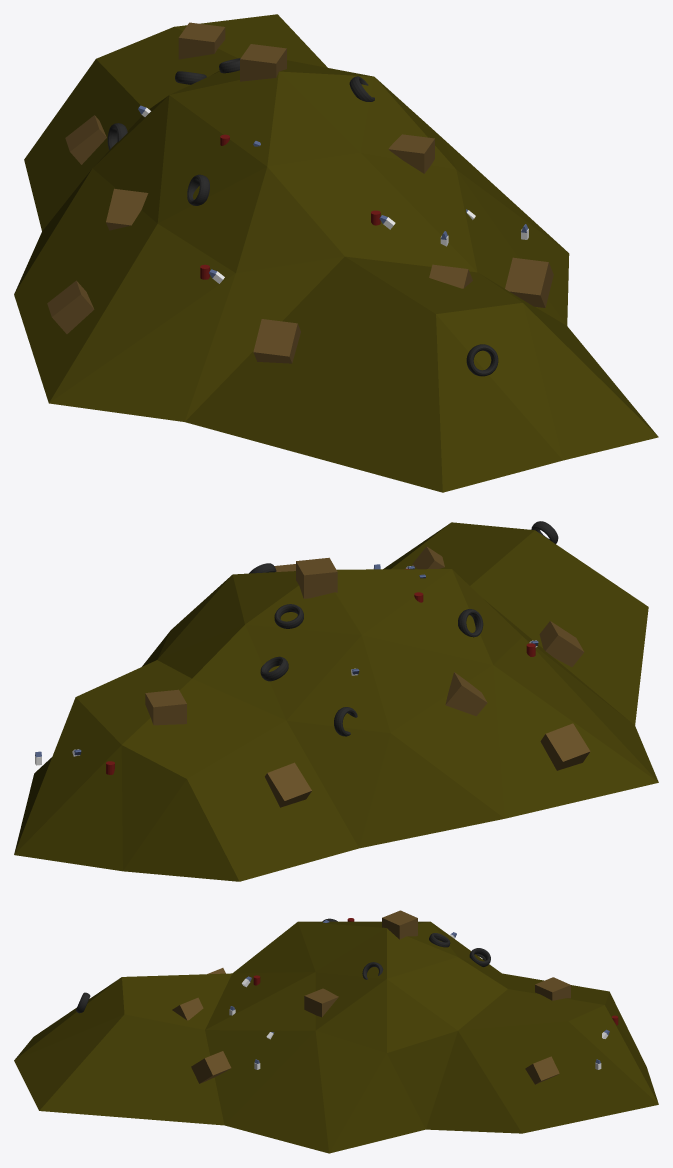
The model's file is Trash6.fbx.
3 views of the same model, one above another, from view 1: azimuth 30°, elevation 25°; view 2: azimuth 150°, elevation 25°; view 3: azimuth 270°, elevation 25° (orthographic). The views are drawn at different scales.
Parts seen in each view (by area): view 1: Icosphere.001; view 2: Icosphere.001; view 3: Icosphere.001.
Boxes of the visible parts, left/top/right/bottom form: Icosphere.001: left=14, top=14, right=658, bottom=492; Icosphere.001: left=14, top=521, right=658, bottom=881; Icosphere.001: left=14, top=910, right=658, bottom=1153.
Bounding box in the file's own units: 19410 × 7572 × 29201.
